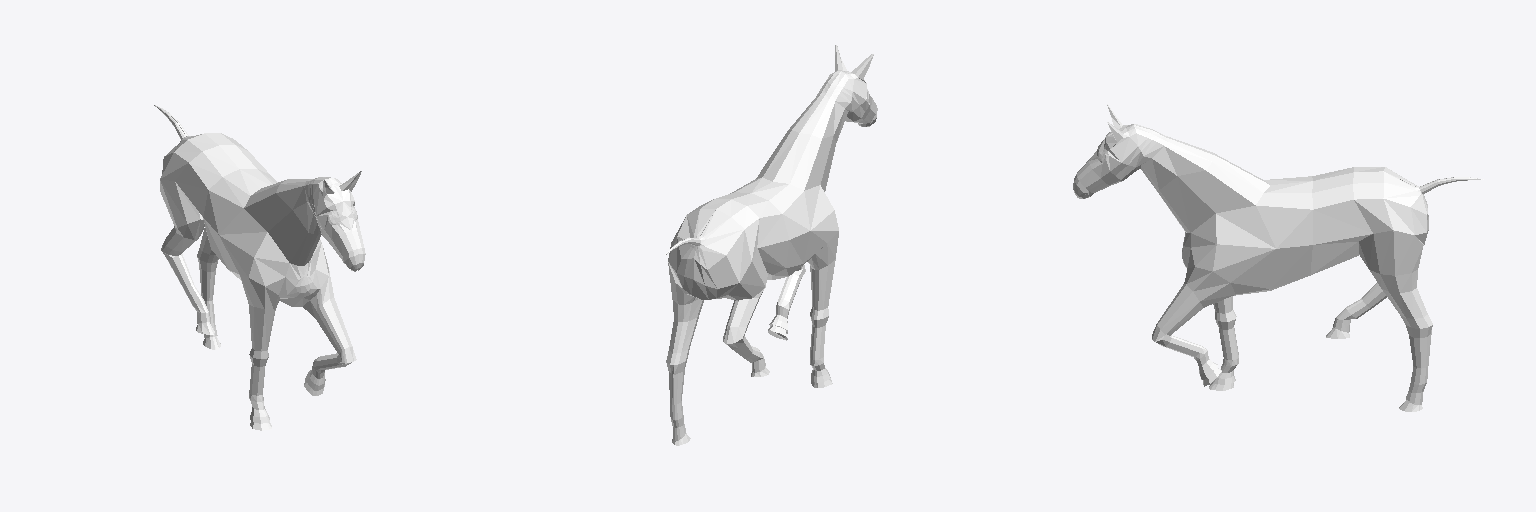
Rendered from horse2.obj.
3 renders of one model, left to right at view 1: azimuth 30°, elevation 25°; view 2: azimuth 150°, elevation 25°; view 3: azimuth 270°, elevation 25°, orthographic.
Visible parts, largest first — view 1: Cylinder_1; view 2: Cylinder_1; view 3: Cylinder_1.
Boxes of the visible parts, x1=… form: Cylinder_1: x1=154, y1=105, x2=365, y2=430; Cylinder_1: x1=665, y1=45, x2=877, y2=445; Cylinder_1: x1=1073, y1=104, x2=1483, y2=411.
Size of the model in its own units: 58.3 by 200 by 262.